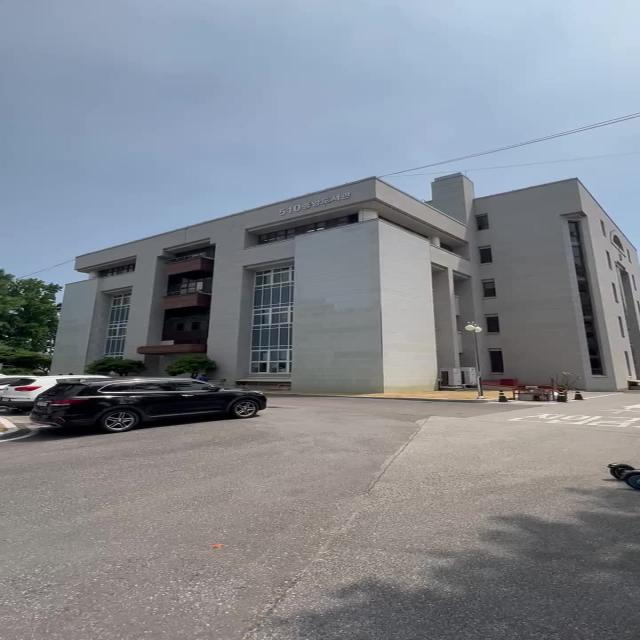building: (0, 164, 640, 389)
